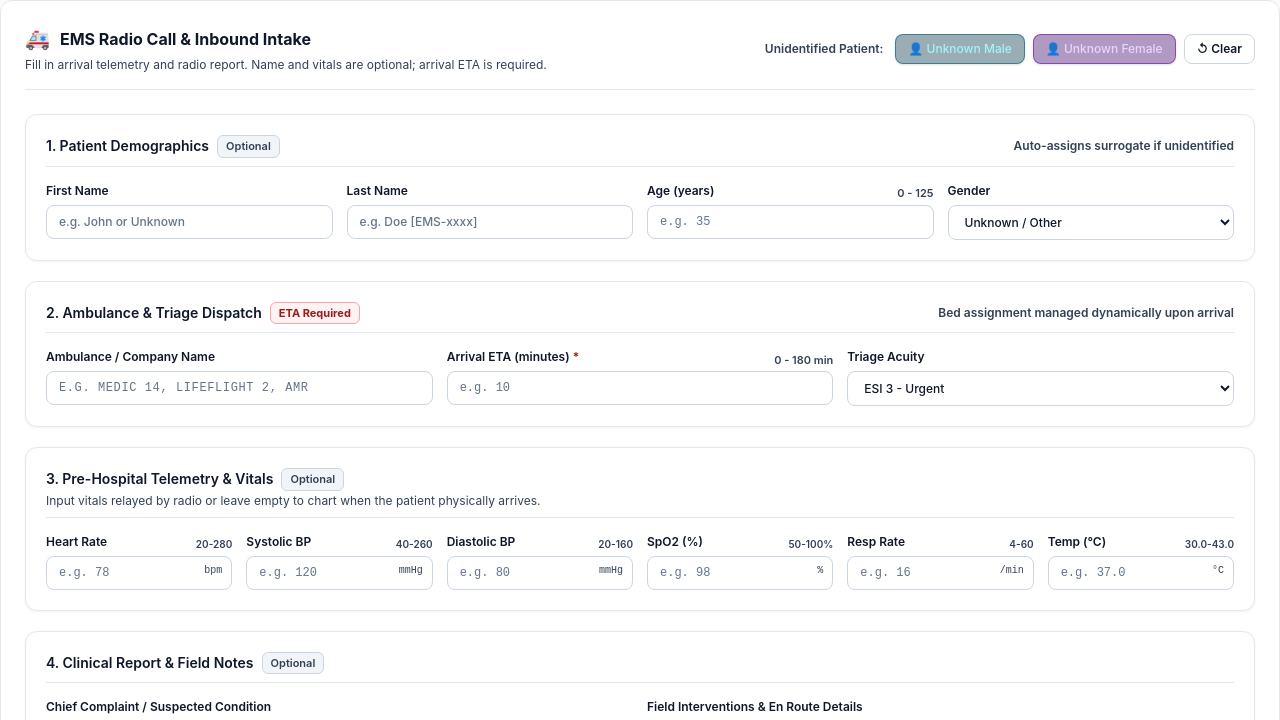
Test case: EmsIntakeForm Component (TDD Suite) › autopopulates Jane Doe surrogate data and default ETA when "Unknown Female" is clicked
Click the button "👤 Unknown Female". click: (1104, 49)
box: left=1033, top=34, right=1176, bottom=64
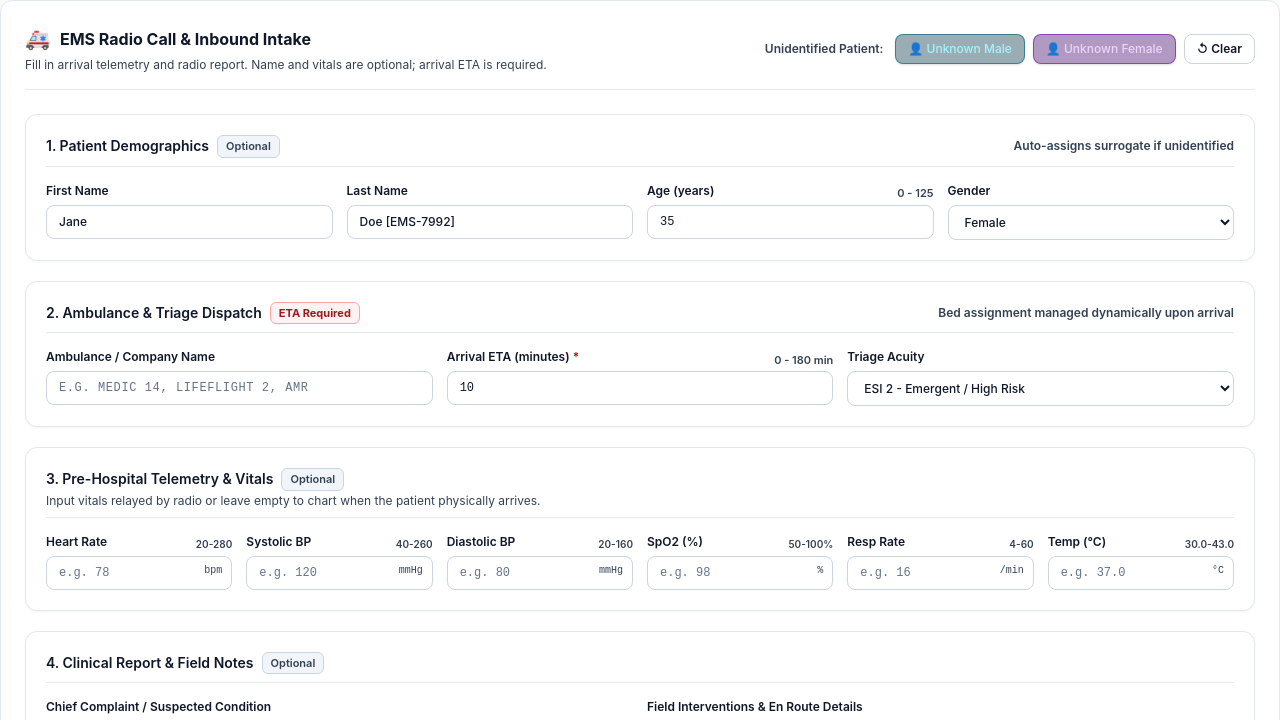
Now the field labelled "First Name" holds "Jane", box left=46, top=204, right=332, bottom=238
Now the number field labelled "Age (years)" holds "35", box left=647, top=204, right=934, bottom=238
Now the dropdown labelled "Gender" shows "Female", box left=948, top=204, right=1234, bottom=240
